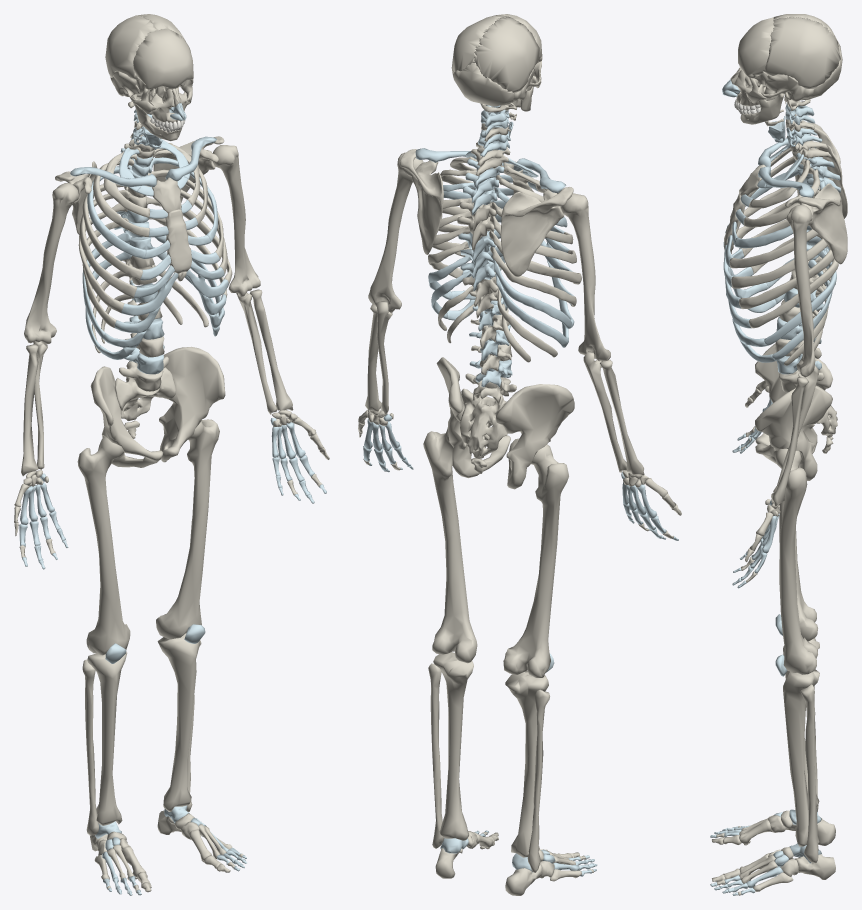
File: skeletal.glb
3 views of the same model, side by side, from view 1: azimuth 30°, elevation 25°; view 2: azimuth 150°, elevation 25°; view 3: azimuth 270°, elevation 25° (orthographic). The views are drawn at different scales.
Parts seen in each view (by area): view 1: SKL.femur.R, SKL.femur.L, SKL.hip_bone.L, SKL.tibia.L, SKL.tibia.R, SKL.frontal_bone.C, SKL.humerus.R, SKL.humerus.L, SKL.hip_bone.R, SKL.parietal_bone.R, SKL.sacrum.C, SKL.fibula.R (+18 smaller); view 2: SKL.femur.R, SKL.femur.L, SKL.hip_bone.R, SKL.scapula.R, SKL.parietal_bone.R, SKL.tibia.L, SKL.tibia.R, SKL.humerus.R, SKL.humerus.L, SKL.hip_bone.L, SKL.scapula.L, SKL.sacrum.C (+15 smaller); view 3: SKL.femur.L, SKL.parietal_bone.L, SKL.tibia.L, SKL.hip_bone.L, SKL.humerus.L, SKL.scapula.L, SKL.fibula.L, SKL.frontal_bone.C, SKL.hip_bone.R, SKL.radius.L, SKL.femur.R, SKL.seventh_rib.L (+28 smaller).
Boxes of the visible parts, x1,y1,x2,y2 form: SKL.femur.R: (77,436,130,655); SKL.femur.L: (156,419,219,639); SKL.hip_bone.L: (159,346,225,462); SKL.tibia.L: (157,633,200,811); SKL.tibia.R: (87,652,127,825); SKL.frontal_bone.C: (133,28,193,91); SKL.humerus.R: (24,183,78,344); SKL.humerus.L: (212,145,260,296); SKL.hip_bone.R: (90,366,163,467); SKL.parietal_bone.R: (105,15,157,79); SKL.sacrum.C: (115,367,175,420); SKL.fibula.R: (82,659,98,835); SKL.femur.R: (503,444,568,677); SKL.femur.L: (423,427,477,663); SKL.hip_bone.R: (495,384,574,489); SKL.scapula.R: (500,187,573,276); SKL.parietal_bone.R: (474,16,539,93); SKL.tibia.L: (433,652,473,840); SKL.tibia.R: (505,671,548,857); SKL.humerus.R: (561,193,610,361); SKL.humerus.L: (368,152,423,312); SKL.hip_bone.L: (436,357,510,478); SKL.scapula.L: (400,149,443,254); SKL.sacrum.C: (459,388,507,458); SKL.femur.L: (775,448,817,674); SKL.parietal_bone.L: (762,17,840,88); SKL.tibia.L: (783,669,819,846); SKL.hip_bone.L: (755,385,832,480); SKL.humerus.L: (786,205,815,377); SKL.scapula.L: (785,183,847,264); SKL.fibula.L: (800,684,818,863); SKL.frontal_bone.C: (738,17,774,78); SKL.hip_bone.R: (755,343,832,453); SKL.radius.L: (771,377,808,506); SKL.femur.R: (779,501,817,641); SKL.seventh_rib.L: (739,249,834,309).
Size of the model in its own units: 0.6694 by 1.7 by 0.2499.
